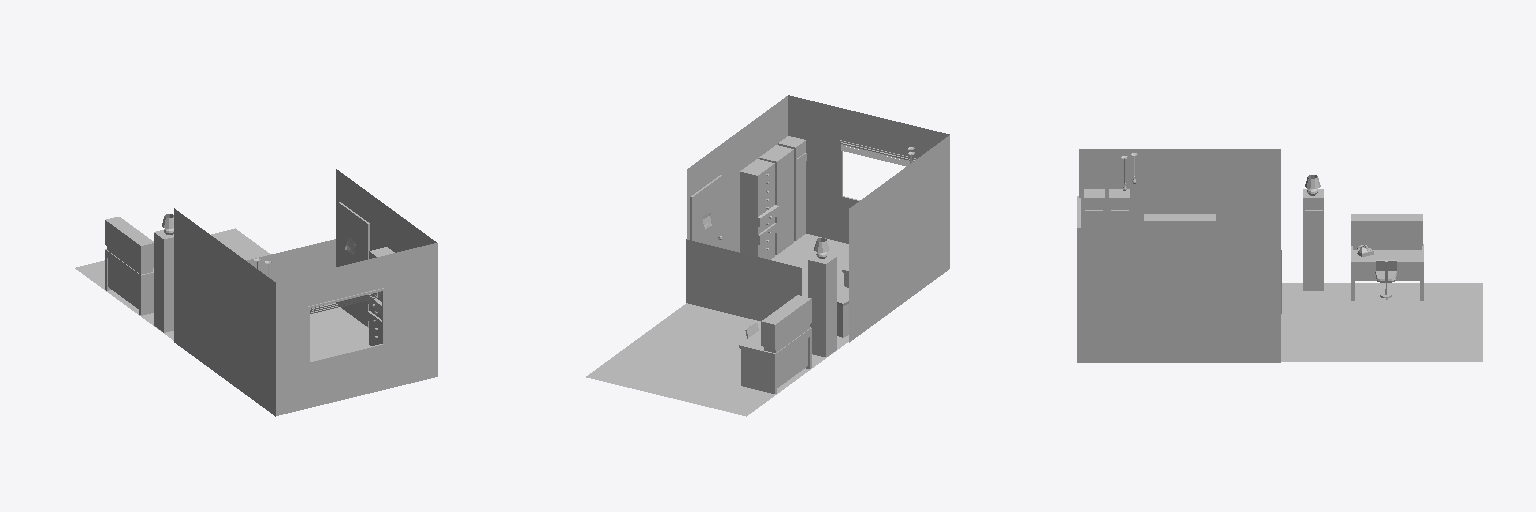
File: roomScene_meshes_GRP.obj
The picture shows the model from 3 angles: view 1: azimuth 30°, elevation 25°; view 2: azimuth 150°, elevation 25°; view 3: azimuth 270°, elevation 25°; orthographic projection.
Visible parts, largest first — view 1: roomScene_GRP wallWindow_mesh, roomScene_GRP walls_mesh, roomScene_GRP desk_mesh1, roomScene_GRP floor_mesh, roomScene_GRP wallSmall_mesh, roomScene_GRP door_mesh, fileCabinet_01 roomScene_GRP, roomScene_GRP floor_mesh1, roomScene_GRP openFileCabinet_mesh; view 2: roomScene_GRP walls_mesh, roomScene_GRP floor_mesh1, roomScene_GRP wallWindow_mesh, roomScene_GRP wallSmall_mesh, roomScene_GRP desk_mesh1, roomScene_GRP openFileCabinet_mesh, fileCabinet_01 roomScene_GRP, roomScene_GRP largeFileCabinet_mesh, roomScene_GRP door_mesh, roomScene_GRP floor_mesh, roomScene_GRP fileCabinet_04, roomScene_GRP smallCabinet_mesh; view 3: roomScene_GRP walls_mesh, roomScene_GRP floor_mesh1, roomScene_GRP desk_mesh1, fileCabinet_01 roomScene_GRP, roomScene_GRP desk_mesh, roomScene_GRP fileCabinet_03, roomScene_GRP fileCabinet_02, roomScene_GRP chair_mesh1.
Part boxes in pixels (left/top/right/bottom): roomScene_GRP wallWindow_mesh: left=276, top=243, right=437, bottom=415; roomScene_GRP walls_mesh: left=174, top=169, right=436, bottom=416; roomScene_GRP desk_mesh1: left=105, top=217, right=153, bottom=315; roomScene_GRP floor_mesh: left=310, top=303, right=370, bottom=360; roomScene_GRP wallSmall_mesh: left=247, top=239, right=335, bottom=303; roomScene_GRP door_mesh: left=338, top=202, right=369, bottom=327; fileCabinet_01 roomScene_GRP: left=154, top=230, right=173, bottom=332; roomScene_GRP floor_mesh1: left=75, top=228, right=328, bottom=340; roomScene_GRP openFileCabinet_mesh: left=367, top=247, right=394, bottom=345; roomScene_GRP walls_mesh: left=687, top=96, right=949, bottom=342; roomScene_GRP floor_mesh1: left=586, top=303, right=847, bottom=416; roomScene_GRP wallWindow_mesh: left=788, top=95, right=949, bottom=243; roomScene_GRP wallSmall_mesh: left=686, top=239, right=801, bottom=320; roomScene_GRP desk_mesh1: left=739, top=295, right=811, bottom=393; roomScene_GRP openFileCabinet_mesh: left=740, top=159, right=778, bottom=259; fileCabinet_01 roomScene_GRP: left=808, top=255, right=836, bottom=356; roomScene_GRP largeFileCabinet_mesh: left=759, top=145, right=793, bottom=254; roomScene_GRP door_mesh: left=690, top=175, right=721, bottom=247; roomScene_GRP floor_mesh: left=771, top=234, right=848, bottom=341; roomScene_GRP fileCabinet_04: left=778, top=136, right=806, bottom=240; roomScene_GRP smallCabinet_mesh: left=837, top=286, right=848, bottom=337; roomScene_GRP walls_mesh: left=1077, top=149, right=1280, bottom=362; roomScene_GRP floor_mesh1: left=1281, top=283, right=1482, bottom=361; roomScene_GRP desk_mesh1: left=1351, top=214, right=1423, bottom=300; fileCabinet_01 roomScene_GRP: left=1303, top=189, right=1323, bottom=290; roomScene_GRP desk_mesh: left=1144, top=214, right=1215, bottom=227; roomScene_GRP fileCabinet_03: left=1084, top=189, right=1104, bottom=227; roomScene_GRP fileCabinet_02: left=1109, top=189, right=1129, bottom=227; roomScene_GRP chair_mesh1: left=1375, top=260, right=1396, bottom=299.
Size of the model in its own units: 4.47 by 3.55 by 9.68.